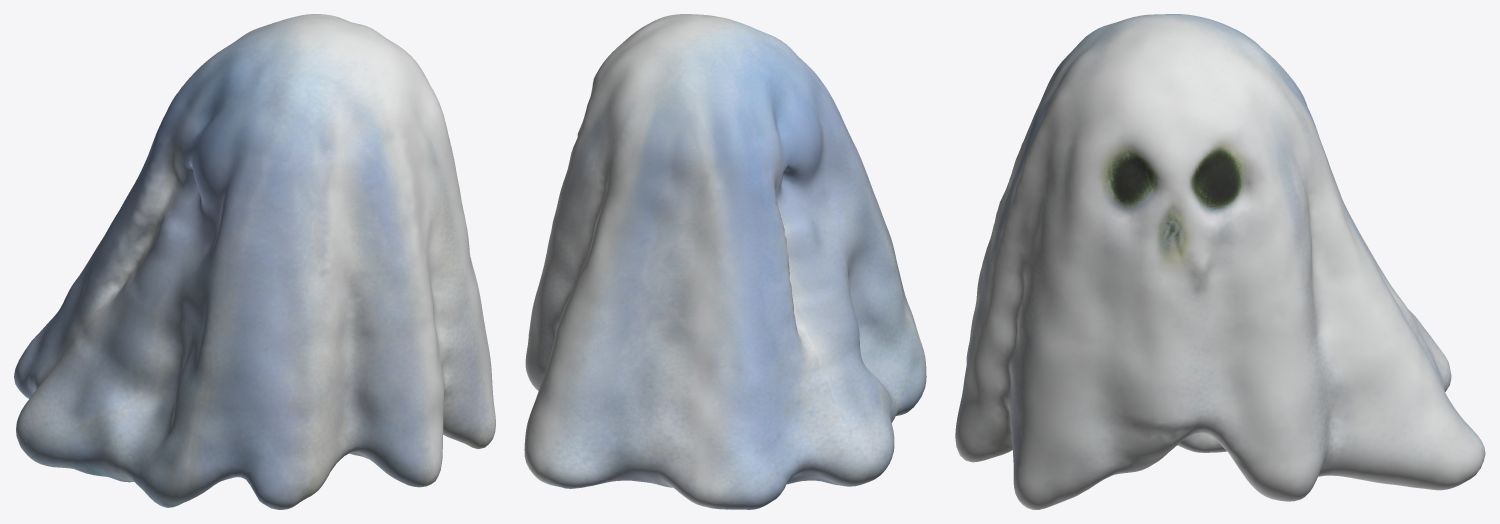
Rendered from ghost2.glb.
The picture shows the model from 3 angles, left to right: view 1: azimuth 30°, elevation 25°; view 2: azimuth 150°, elevation 25°; view 3: azimuth 270°, elevation 25°; orthographic projection. The views are drawn at different scales.
Visible parts, largest first — view 1: Mesh1; view 2: Mesh1; view 3: Mesh1.
Part boxes in pixels (x1,y1,x2,y2): Mesh1: (14,14,495,509); Mesh1: (524,14,926,509); Mesh1: (955,14,1485,509).
Size of the model in its own units: 1.09 by 1.13 by 1.2.
1 material, 1 textured.
